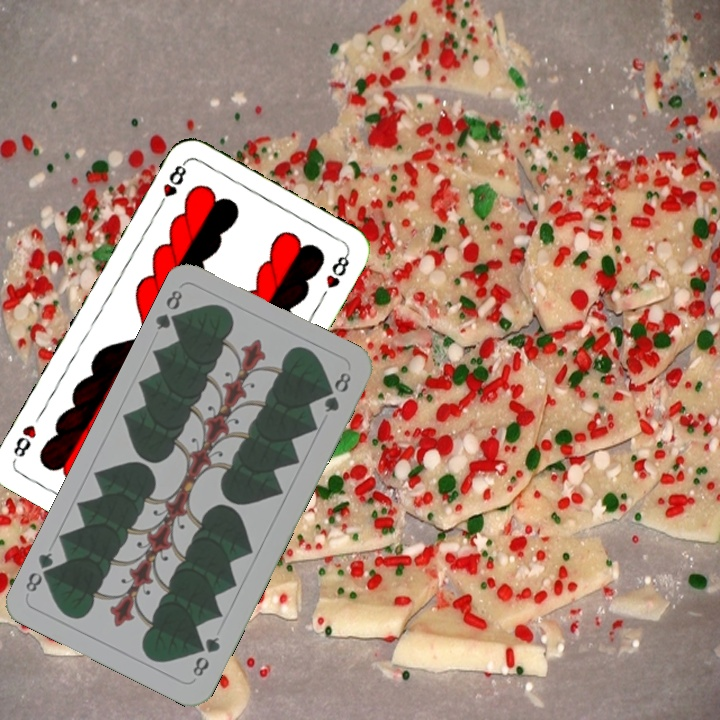G8: (151, 285, 187, 333), (188, 632, 223, 680)
H8: (154, 157, 189, 212)
